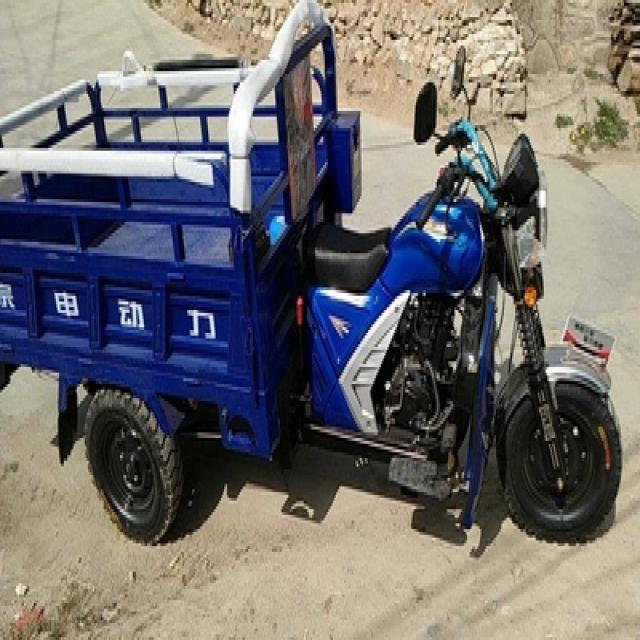tricycle: (1, 0, 622, 546)
